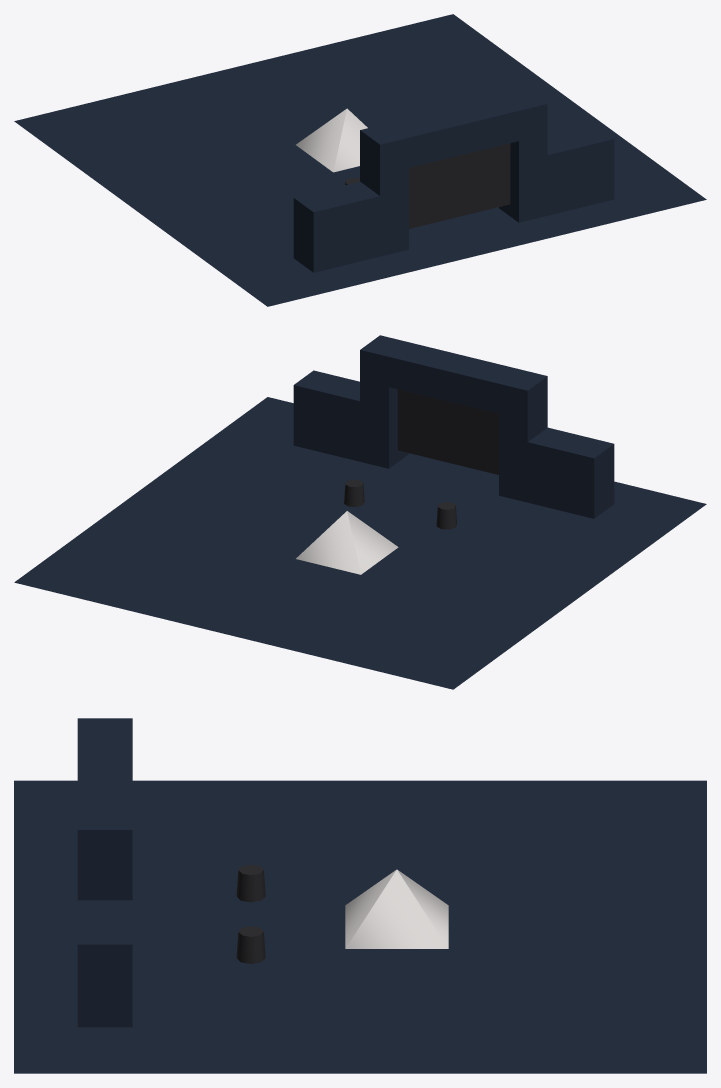
File: dng_01.glb
3 renders of one model, top to bottom at view 1: azimuth 30°, elevation 25°; view 2: azimuth 150°, elevation 25°; view 3: azimuth 270°, elevation 25°, orthographic. The views are drawn at different scales.
Parts seen in each view (by area): view 1: scenario_base_floor, dungeon_entrance_portal, DNG_01, dungeon_ossuary_piles; view 2: scenario_base_floor, dungeon_entrance_portal, DNG_01, dungeon_ossuary_piles; view 3: scenario_base_floor, dungeon_entrance_portal, DNG_01, dungeon_ossuary_piles.
Part boxes in pixels (box(x1,y1,x2,y2)): scenario_base_floor: box(14, 14, 706, 306); dungeon_entrance_portal: box(360, 89, 547, 256); DNG_01: box(293, 124, 614, 272); dungeon_ossuary_piles: box(296, 108, 367, 172); scenario_base_floor: box(14, 397, 706, 689); dungeon_entrance_portal: box(360, 335, 547, 496); DNG_01: box(293, 370, 614, 529); dungeon_ossuary_piles: box(296, 511, 398, 574); scenario_base_floor: box(14, 780, 706, 1073); dungeon_entrance_portal: box(77, 718, 132, 900); DNG_01: box(77, 864, 265, 1027); dungeon_ossuary_piles: box(345, 869, 448, 948).
Size of the model in its own units: 38 by 9.25 by 38.
